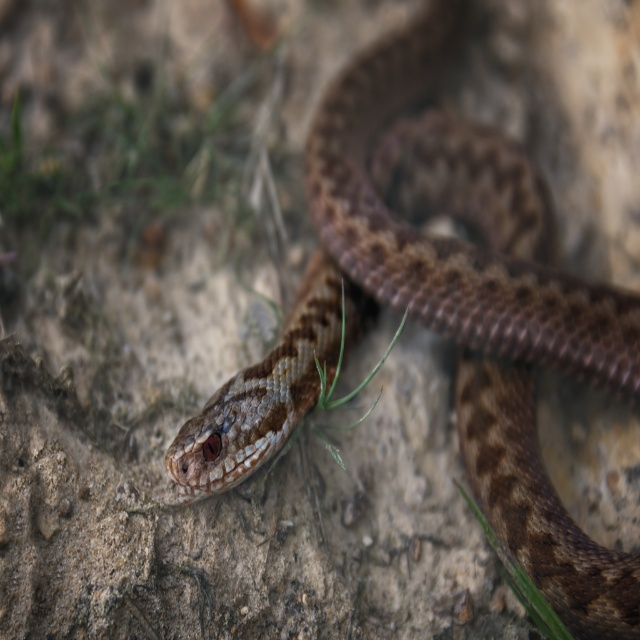Snake: (164, 0, 640, 640)
